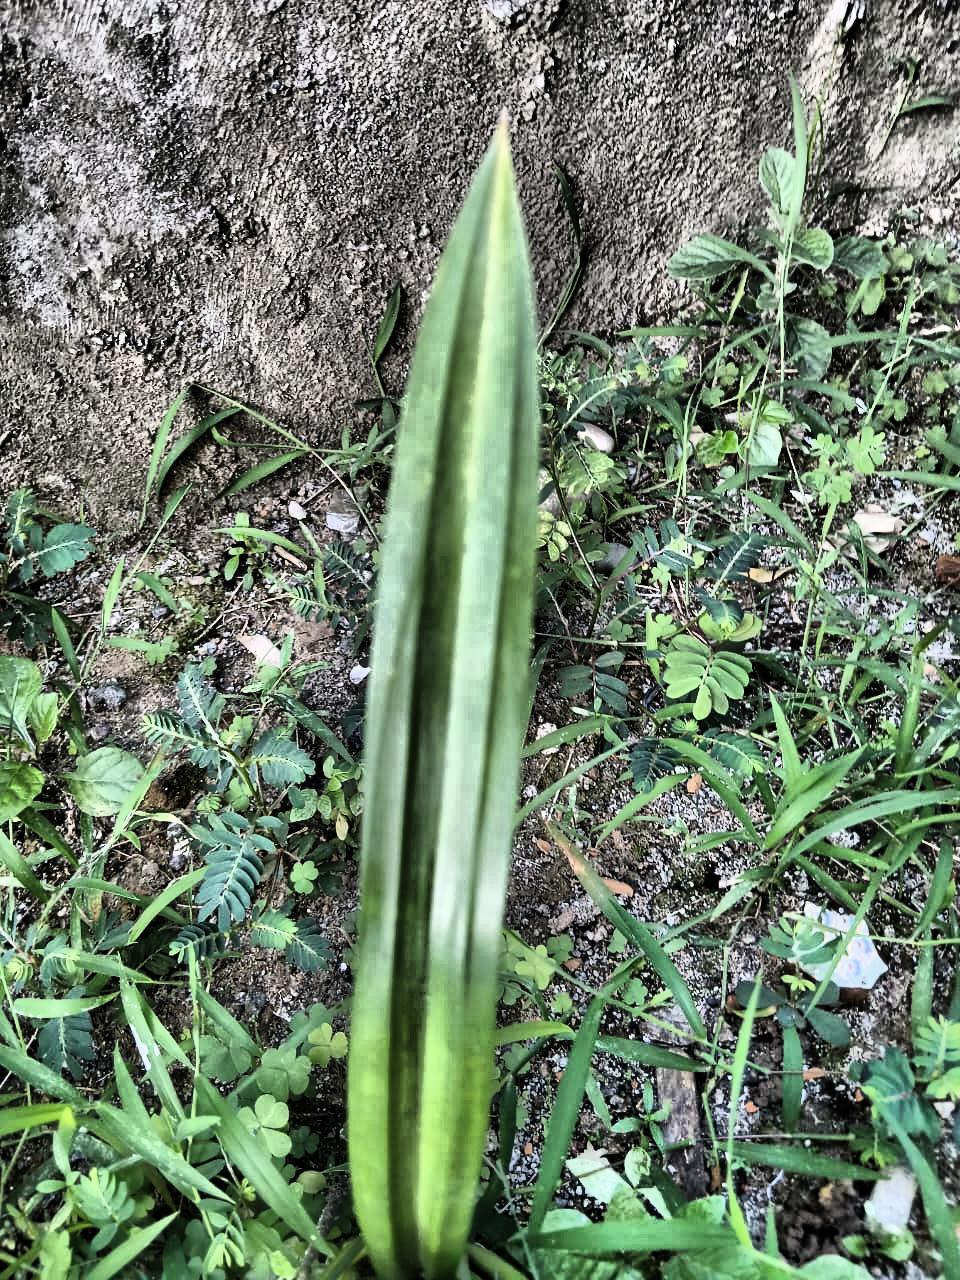daun pandan: (347, 124, 541, 1279)
